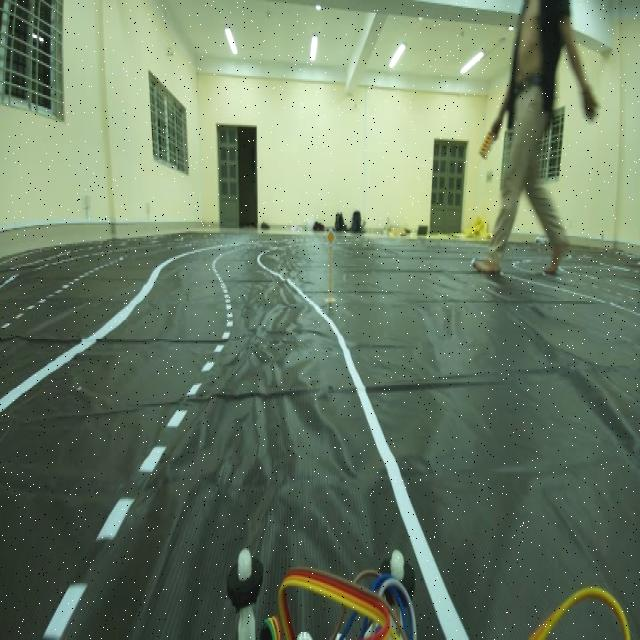priority: (324, 226, 336, 248)
